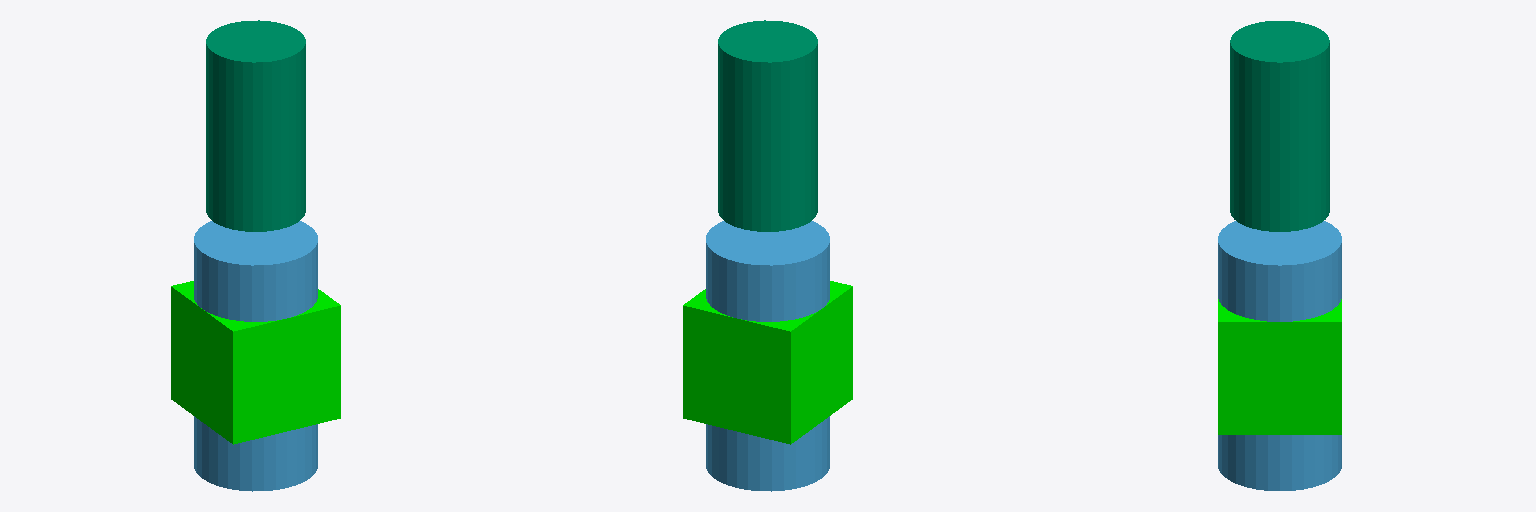
URDF robot description (scara_robot):
<?xml version="1.0"?>
<robot name="scara_robot">
  <link name="base">
    <visual>
      <geometry>
        <box size="0.1 0.1 0.1"/>
      </geometry>
      <material name="my_material">
        <color rgba="0 1 0 1" />  <!-- Utilisez les valeurs de 0 à 1 pour R, G, B et A (transparence) -->
    </material>
    </visual>
  </link>

  <link name="corps1">
    <visual>
      <geometry>
        <cylinder radius="0.05" length="0.2"/>
      </geometry>
    </visual>
    <inertial>
      <mass value="1"/>
      <inertia ixx="0.005" ixy="0" ixz="0" iyy="0.005" iyz="0" izz="0.005"/>
    </inertial>
  </link>

  <link name="corps2">
    <visual>
      <geometry>
        <cylinder radius="0.04" length="0.15"/>
      </geometry>
    </visual>
    <inertial>
      <mass value="0.8"/>
      <inertia ixx="0.003" ixy="0" ixz="0" iyy="0.003" iyz="0" izz="0.003"/>
    </inertial>
  </link>

  <joint name="joint1" type="revolute">
    <parent link="base"/>
    <child link="corps1"/>
    <origin xyz="0 0 0"/>
    <axis xyz="0 0 1"/>
    <limit effort="100" lower="-3.14159" upper="3.14159" velocity="1"/>
  </joint>

  <joint name="joint2" type="revolute">
    <parent link="corps1"/>
    <child link="corps2"/>
    <origin xyz="0 0 0.2"/>
    <axis xyz="0 0 1"/>
    <limit effort="100" lower="-3.14159" upper="3.14159" velocity="1"/>
  </joint>
</robot>

--- What the picture shows (computed from the rendered views, not written in the file) ---
3 views of the same robot in one strip: view 1: azimuth 30°, elevation 25°; view 2: azimuth 150°, elevation 25°; view 3: azimuth 270°, elevation 25° (orthographic).
Robot: scara_robot — 3 links, 2 joints (2 revolute); root link base; default pose: all joints at 0.
Visible links, largest first — view 1: corps2, base, corps1; view 2: corps2, base, corps1; view 3: corps2, corps1, base.
Link boxes in pixels (x1=…): corps2: x1=206, y1=20, x2=305, y2=231; base: x1=171, y1=281, x2=340, y2=444; corps1: x1=194, y1=221, x2=317, y2=491; corps2: x1=718, y1=20, x2=817, y2=231; base: x1=683, y1=281, x2=852, y2=444; corps1: x1=706, y1=221, x2=829, y2=491; corps2: x1=1230, y1=21, x2=1329, y2=231; corps1: x1=1218, y1=221, x2=1341, y2=490; base: x1=1218, y1=299, x2=1341, y2=434.
Bounding box of the posed robot: 0.1 × 0.1 × 0.375 m (x, y, z).
Geometry: primitives only (box / cylinder / sphere), no mesh files.
